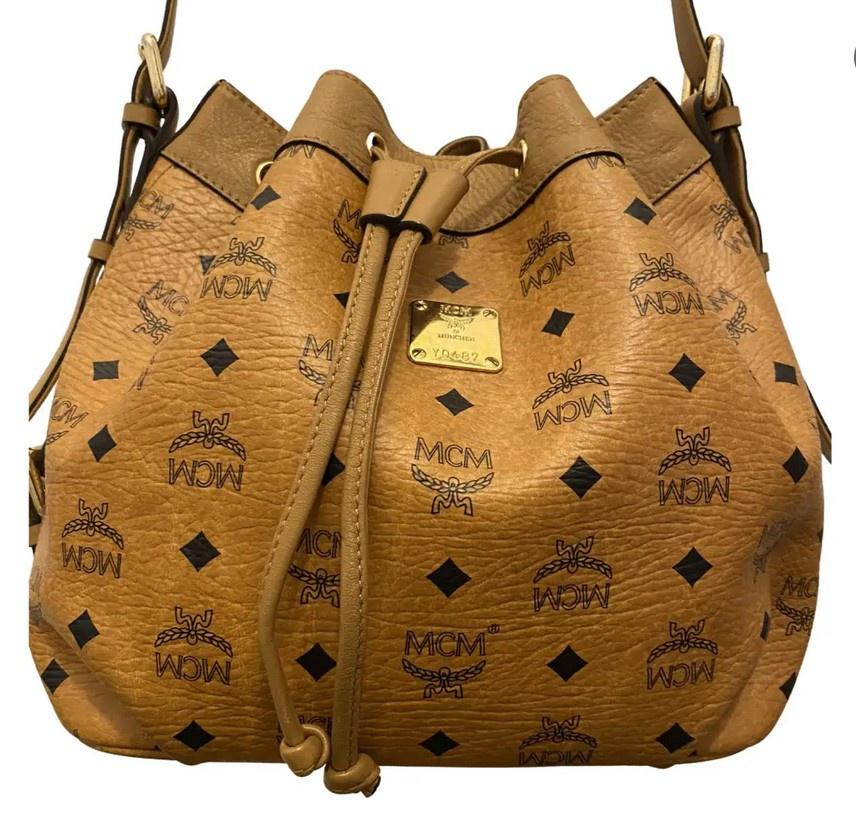MCM: (33, 81, 828, 774)
